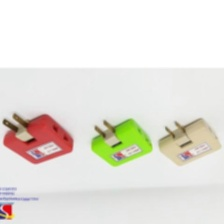three_eye_plug: (0, 107, 75, 167), (153, 115, 222, 170), (86, 115, 153, 170)
